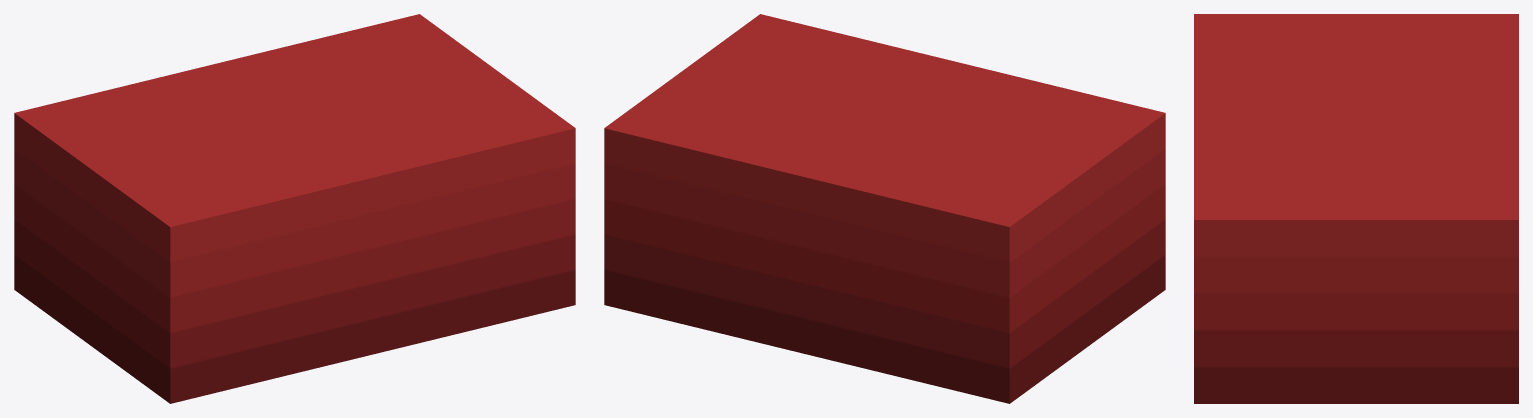
3 views of the same model, side by side, from view 1: azimuth 30°, elevation 25°; view 2: azimuth 150°, elevation 25°; view 3: azimuth 270°, elevation 25° (orthographic). The views are drawn at different scales.
Visible parts, largest first — view 1: Root055; view 2: Root055; view 3: Root055.
Boxes of the visible parts, x1,y1,x2,y2 form: Root055: (14, 14, 575, 403); Root055: (604, 14, 1165, 403); Root055: (1194, 14, 1518, 403).
Size of the model in its own units: 12 by 5 by 8.
